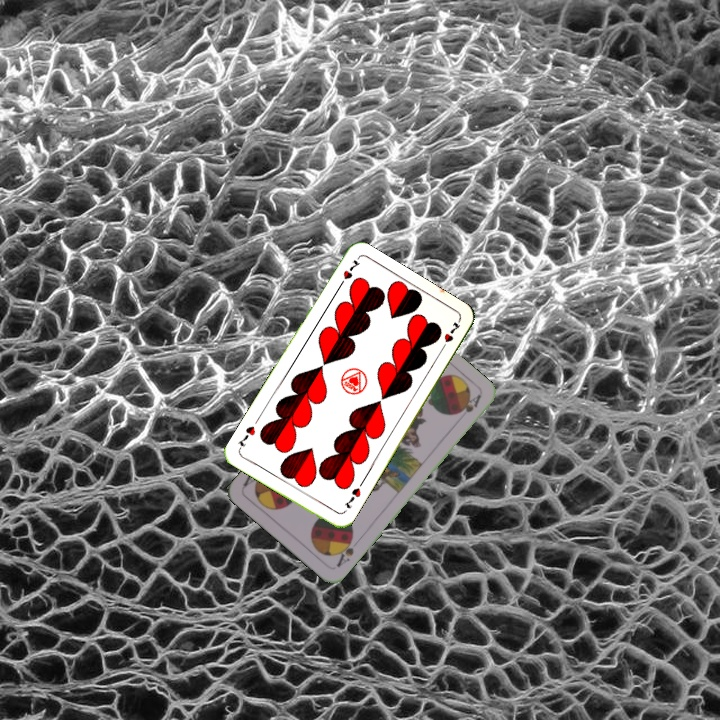H7: (334, 256, 363, 291), (340, 484, 364, 511)
SA: (332, 532, 357, 570)
